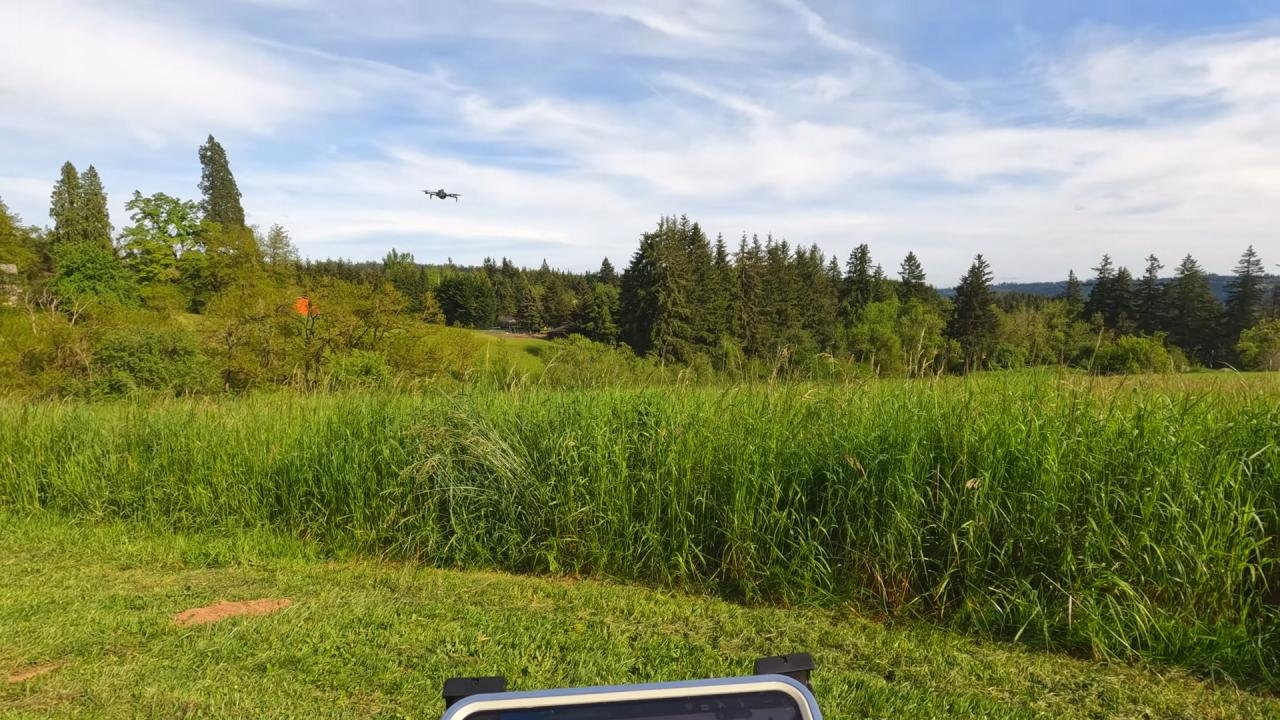Drone: (414, 175, 467, 214)
